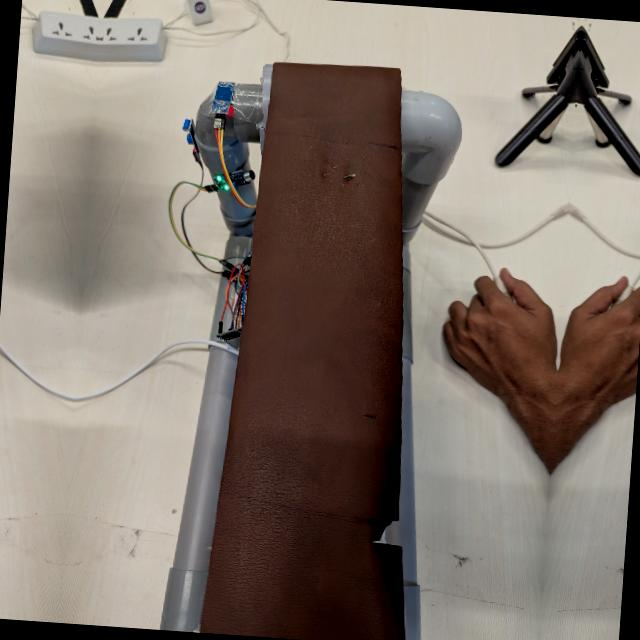belt_crack: (292, 144, 383, 206)
belt_tear: (337, 476, 420, 576)
